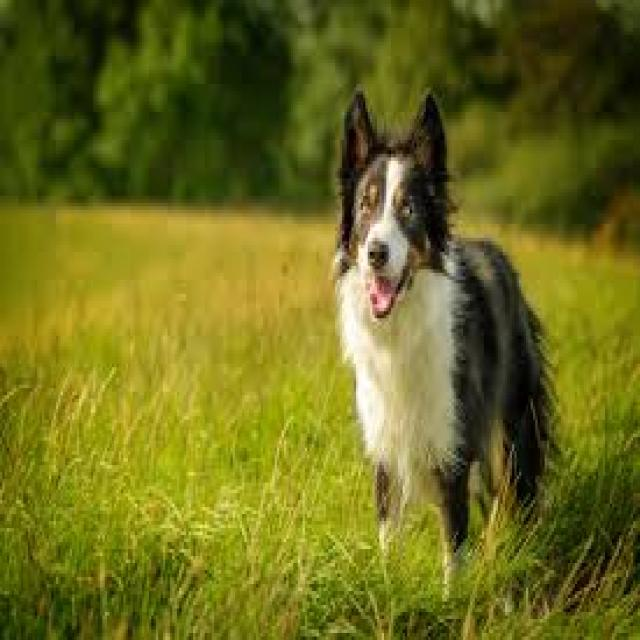BORDER_COLLIE: (324, 81, 552, 591)
